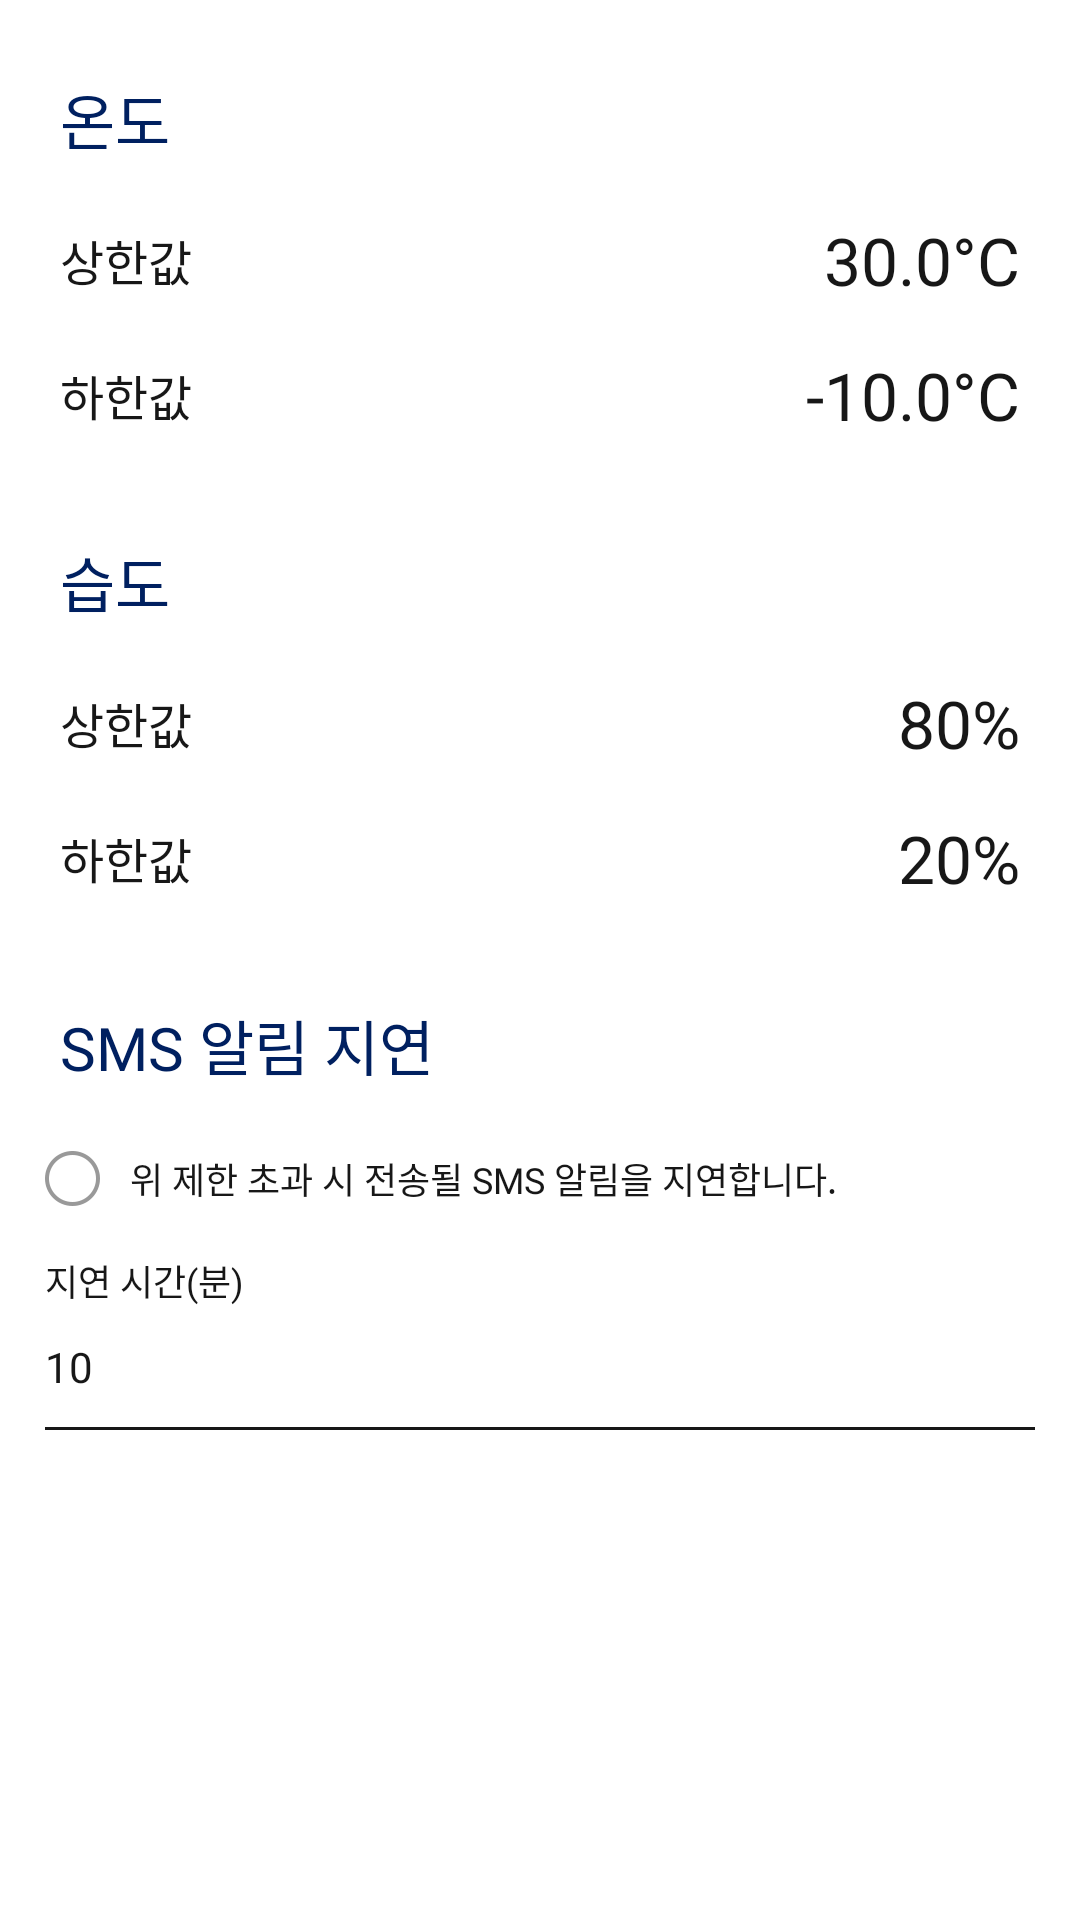

Icon click points for this 1080 × 1920 phone screenshot, format (x,y):
option off: (72,1178)
